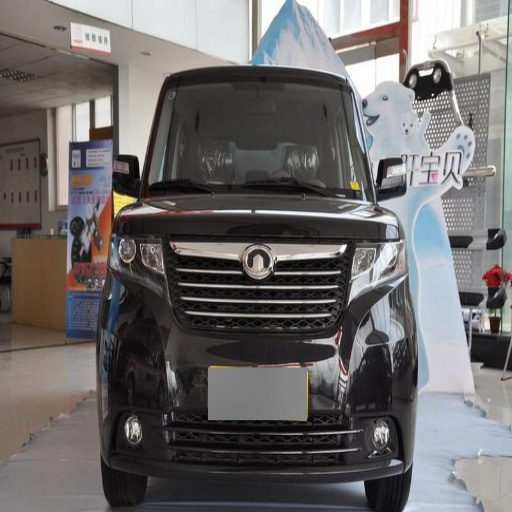front_bumper: (114, 233, 413, 509)
front_right_light: (109, 229, 163, 281)
hood: (118, 186, 387, 239)
